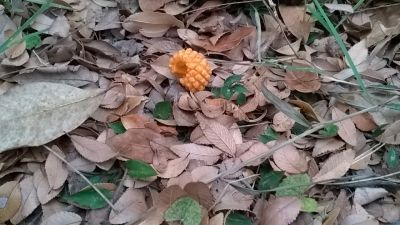eggs: (168, 49, 213, 90)
